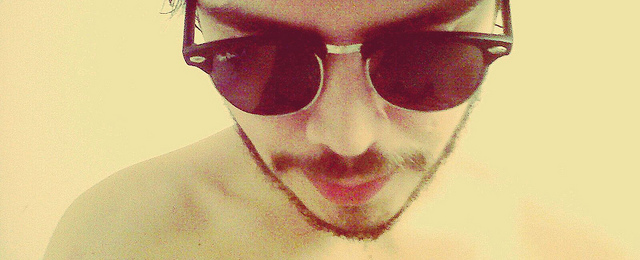sunglasses: (202, 42, 479, 103)
